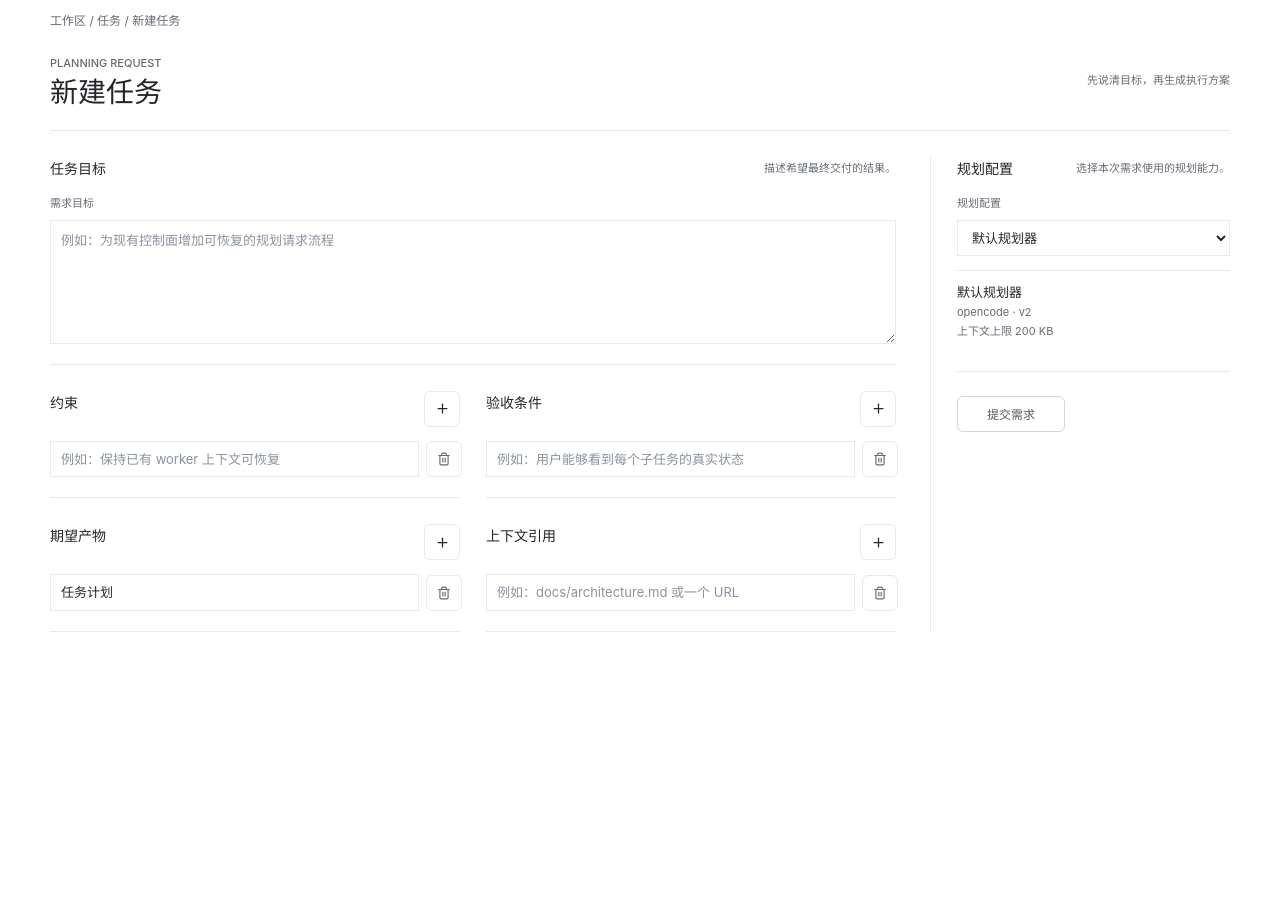
Test: PlanningBriefForm › requires an objective and one acceptance criterion
Click the button "提交需求" at (1011, 414), box [957,396,1065,432]
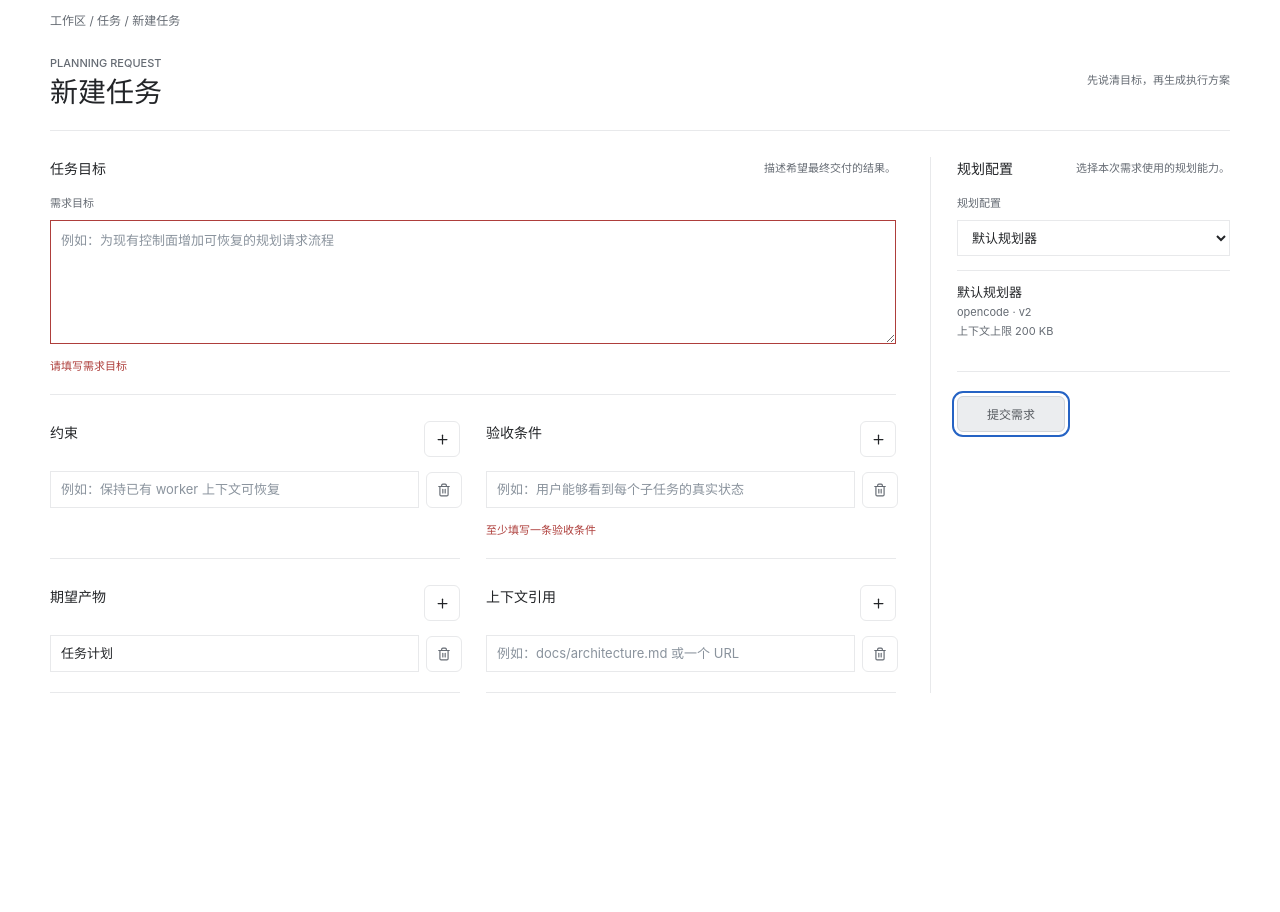
Now the text "请填写需求目标" is shown, box [50,358,127,372]
Now the text "至少填写一条验收条件" is shown, box [486,523,596,537]
